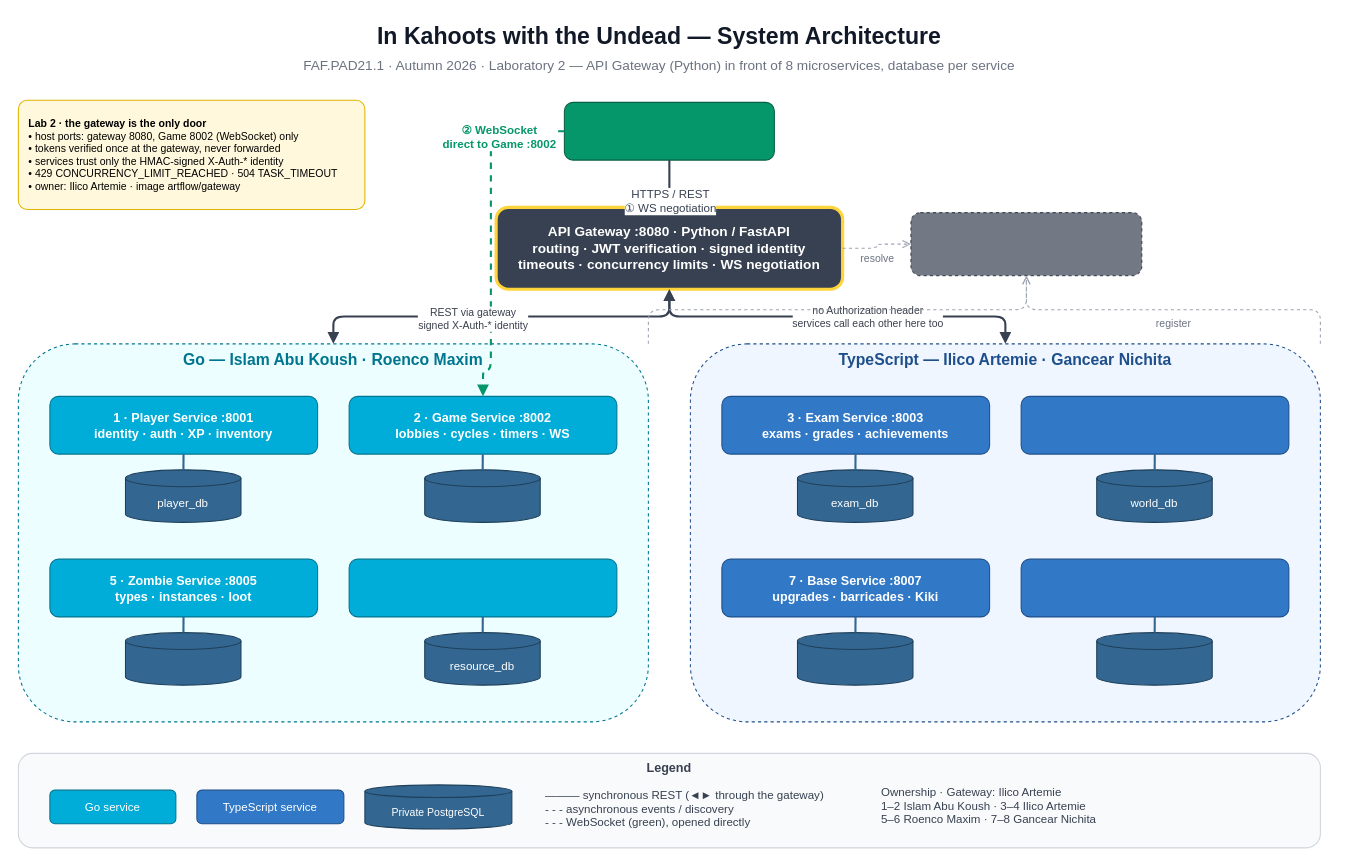
Some shapes in this 1347 by 866 pixel diagram are drawn without their labels. The shapes that lost their labels are listed below. From the top down, each one's centre as x and y in pixels, then its label:
At [668,130]: "Game Client REST + WebSocket".
At [1026,244]: "Service Registry :8500 (planned) discovery · health checks".
At [1154,424]: "4 · World Service :8004 map · rooms · nodes · wings".
At [482,495]: "game_db".
At [482,587]: "6 · Resource Service :8006 pools · idempotent ledger".
At [1154,587]: "8 · Crafting Service :8008 recipes · craft saga".
At [182,658]: "zombie_db".
At [854,658]: "base_db".
At [1154,658]: "crafting_db".
